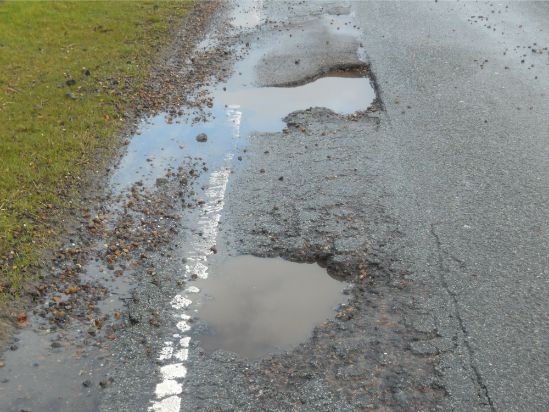pothole: (191, 240, 381, 365), (250, 58, 385, 135)
